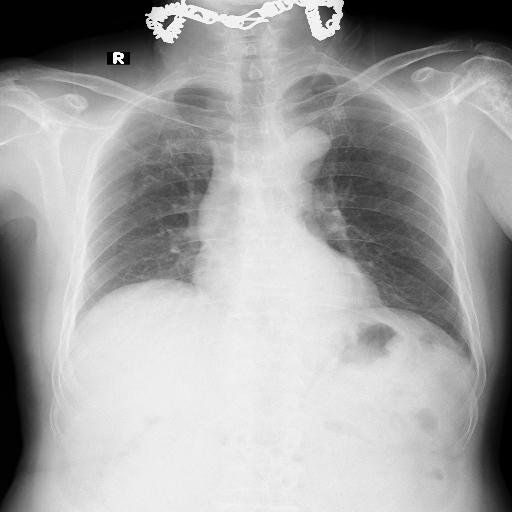Aortic enlargement: (127, 70, 263, 186), (256, 106, 308, 148)
Cardiomegaly: (92, 234, 288, 286)
Other lesion: (70, 94, 158, 156)
Pulmonary fibrosis: (93, 94, 166, 156), (306, 80, 340, 128)
